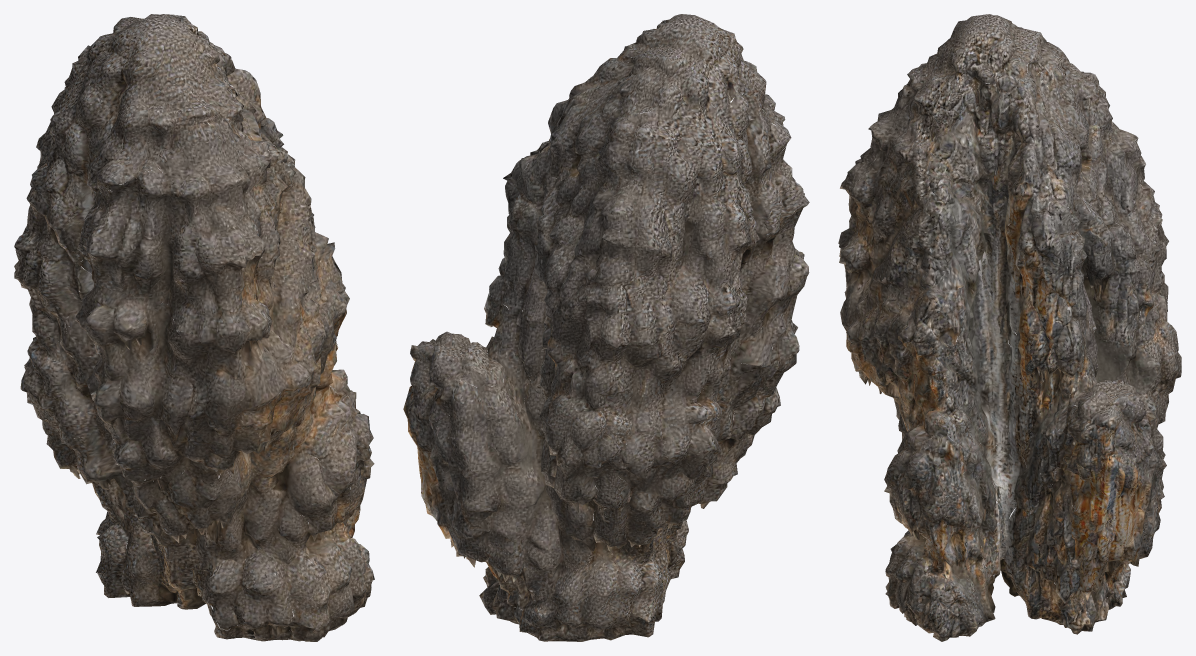
The model's file is karst-a.glb.
3 renders of one model, left to right at view 1: azimuth 30°, elevation 25°; view 2: azimuth 150°, elevation 25°; view 3: azimuth 270°, elevation 25°, orthographic. The views are drawn at different scales.
Parts seen in each view (by area): view 1: tripo_node_583d07d6-d4aa-4226-bbaf-6285857dece8; view 2: tripo_node_583d07d6-d4aa-4226-bbaf-6285857dece8; view 3: tripo_node_583d07d6-d4aa-4226-bbaf-6285857dece8.
Part boxes in pixels (x1,y1,x2,y2): tripo_node_583d07d6-d4aa-4226-bbaf-6285857dece8: (14, 14, 374, 641); tripo_node_583d07d6-d4aa-4226-bbaf-6285857dece8: (403, 14, 809, 641); tripo_node_583d07d6-d4aa-4226-bbaf-6285857dece8: (838, 14, 1181, 641).
Bounding box in the file's own units: 0.5455 × 0.9987 × 0.5626.
Materials: 1 (1 with a texture image).
